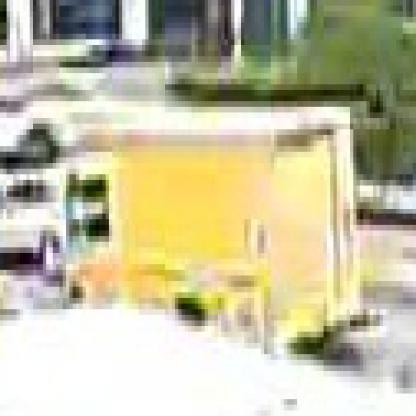truck: (70, 125, 384, 327)
